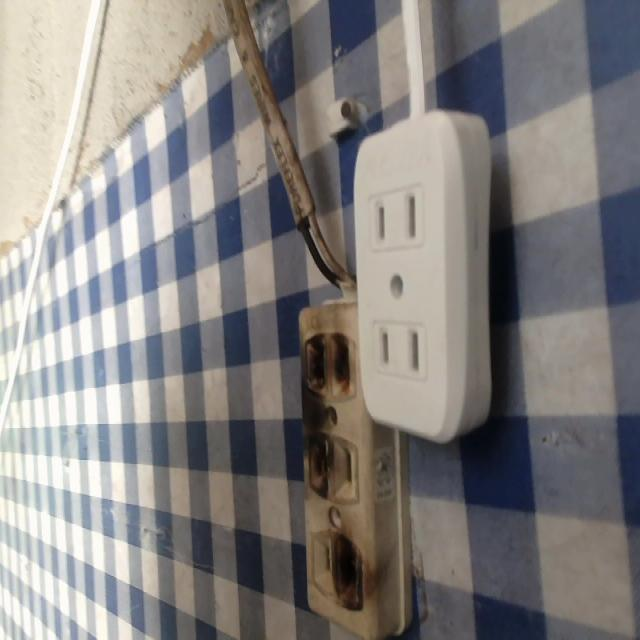-: (298, 322, 357, 410), (327, 532, 375, 615), (295, 431, 336, 497)
